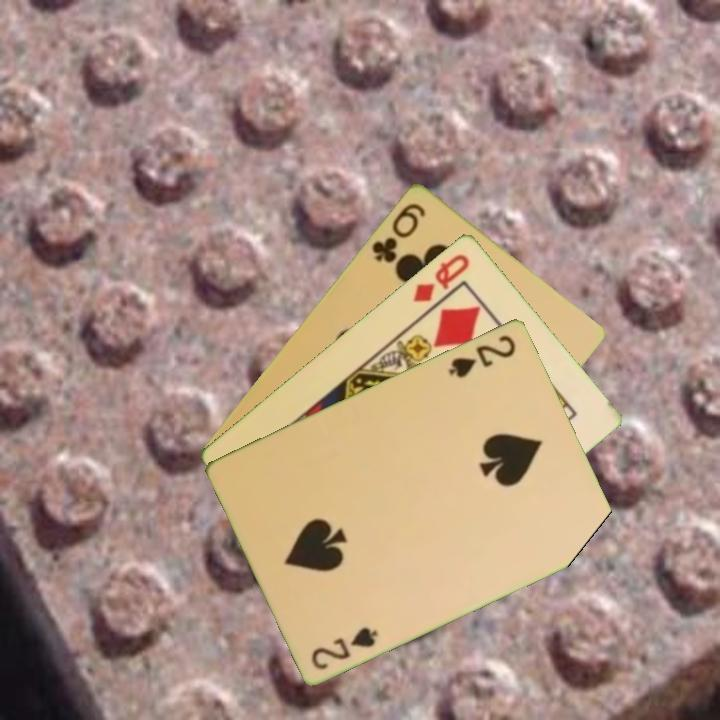2s: (444, 330, 519, 381), (307, 622, 381, 673)
6c: (368, 198, 429, 266)
Qd: (409, 249, 473, 305)
